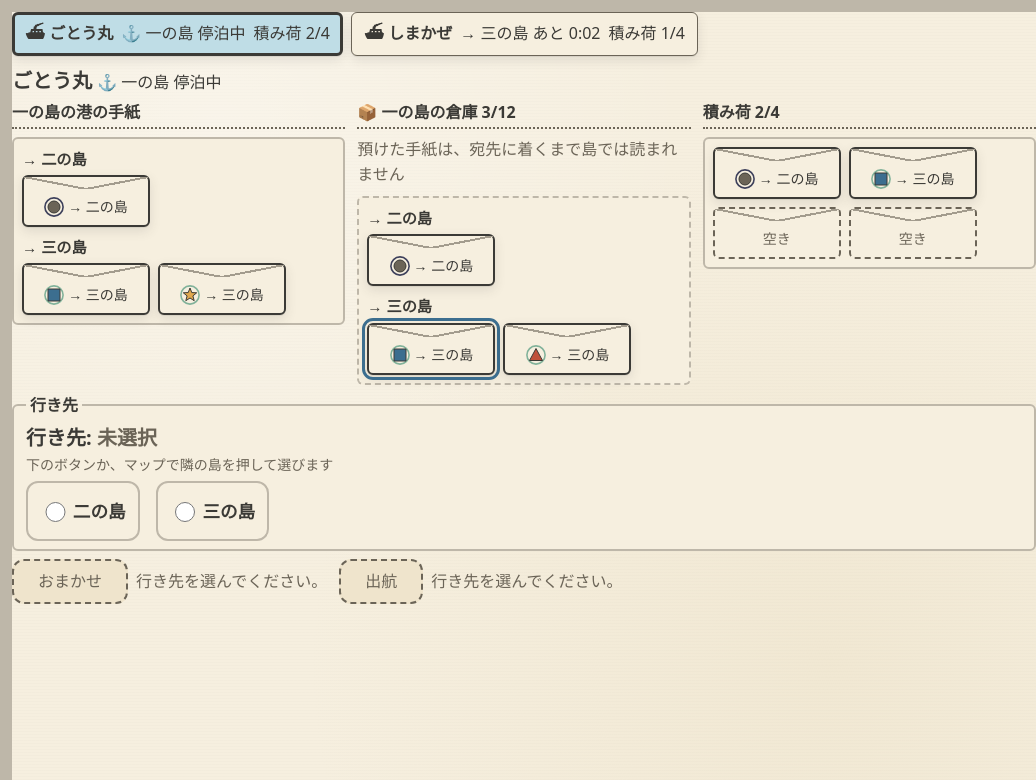
Test case: 中継倉庫の区画（T-722） › FP-R6 倉庫から積んだ手紙が消えたら、倉庫の同じ位置・1 つ前・見出しにフォーカスを移す
What coordinates should you click on to do the following:
click the 4th button "→ 三の島"
I would click on:
 (431, 349)
Its box is [367,323,495,375].
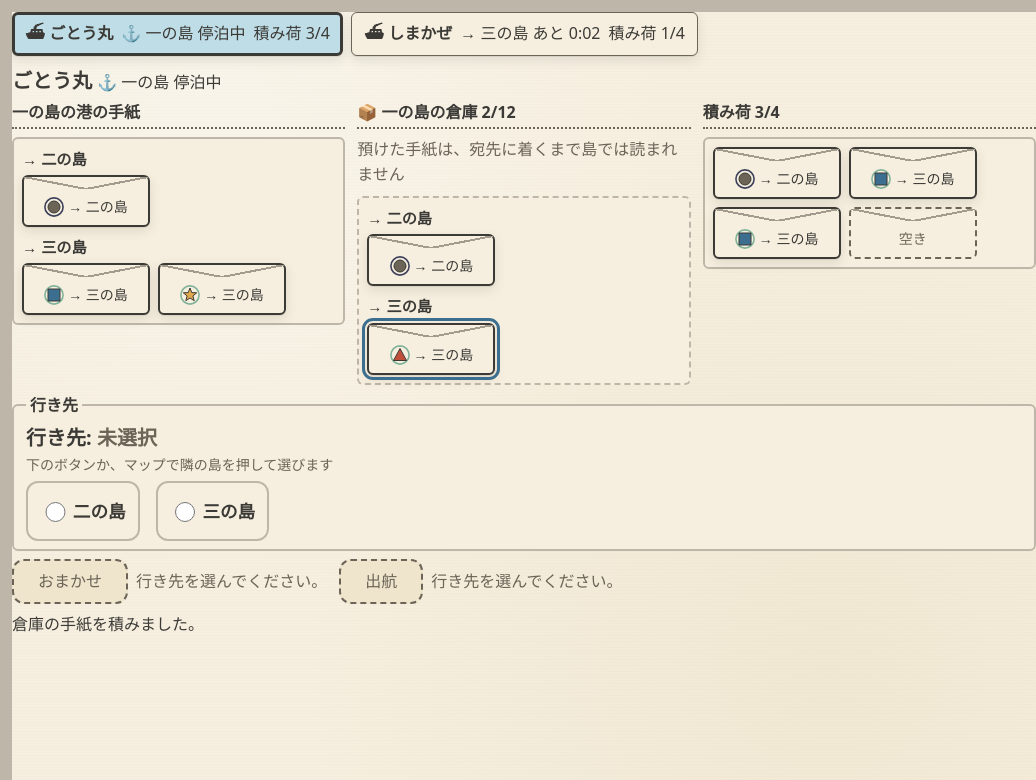
// 最後（42）を積む → 1 つ前の 41。
What coordinates should you click on to do the following:
click the button "→ 三の島" below "預けた手紙は、宛先に着くまで島では読まれません"
I would click on:
 (431, 349)
Its box is [367,323,495,375].
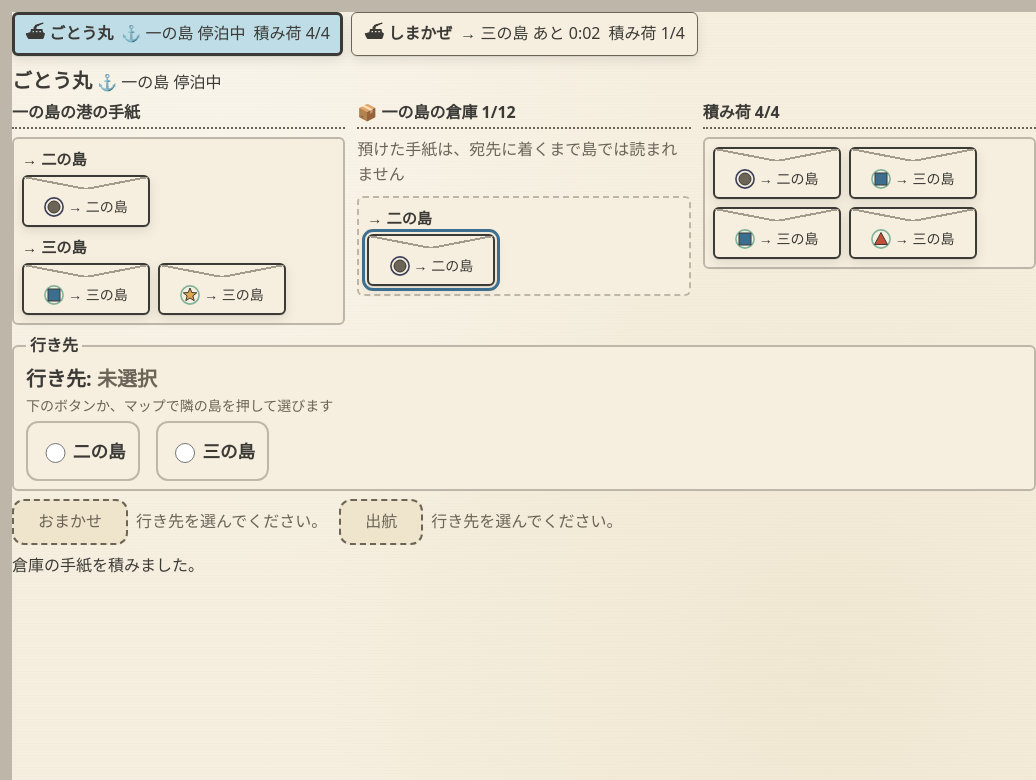
// 最後の 1 通 → 見出し。
What coordinates should you click on to do the following:
click the button "→ 二の島" below "預けた手紙は、宛先に着くまで島では読まれません"
I would click on:
 (431, 260)
Its box is [367,234,495,286].
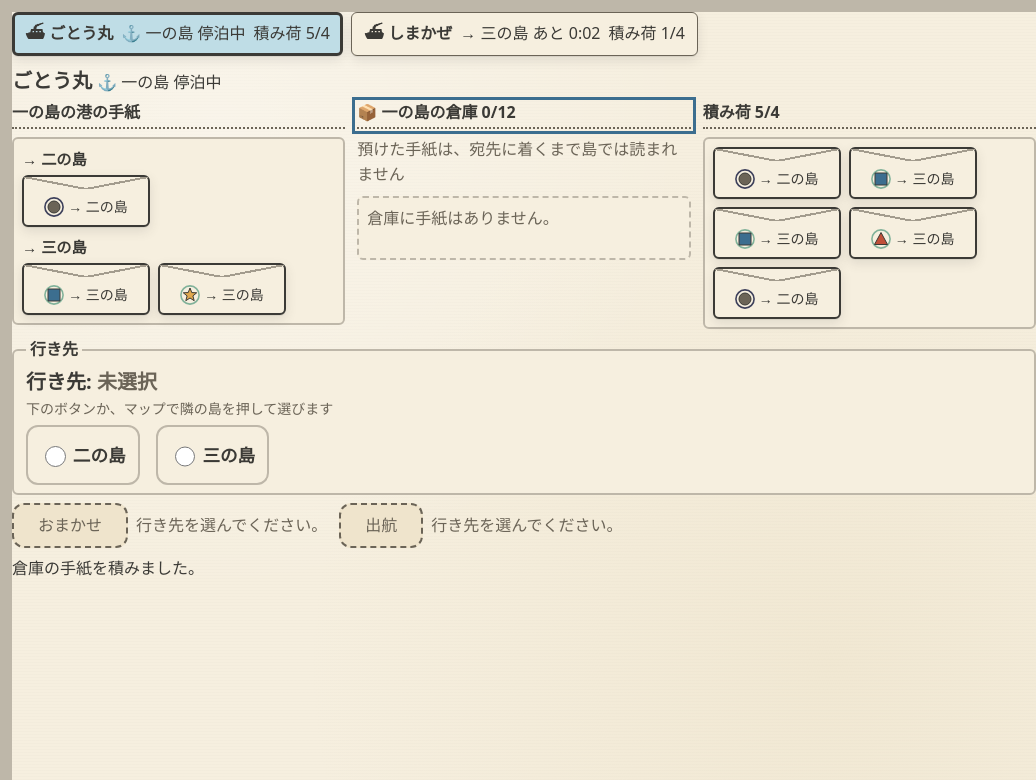
expect the text "倉庫に手紙はありません。" is shown: met, box [367,207,559,229]
